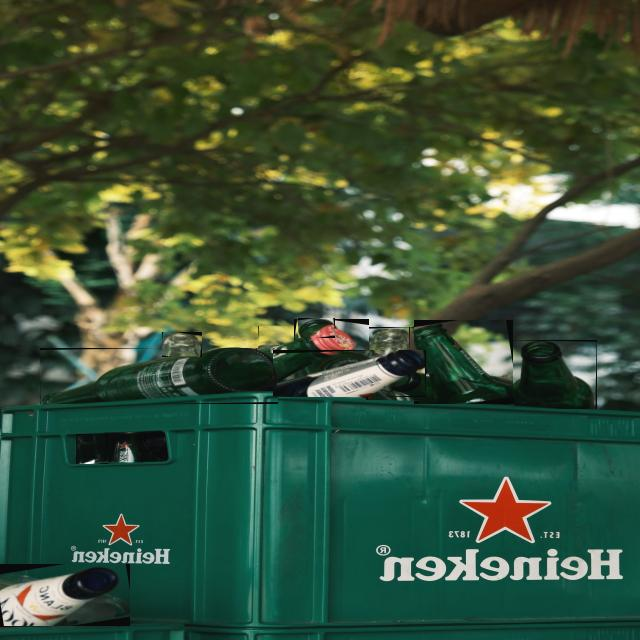Bottle: (40, 348, 276, 404), (413, 321, 512, 404), (273, 350, 425, 397), (0, 572, 118, 627), (510, 341, 595, 408), (258, 327, 353, 377), (47, 600, 129, 625), (294, 349, 368, 374), (366, 328, 408, 357), (366, 328, 407, 357), (392, 374, 432, 400), (109, 433, 142, 463), (162, 332, 201, 357), (75, 434, 107, 463), (298, 319, 333, 337)
